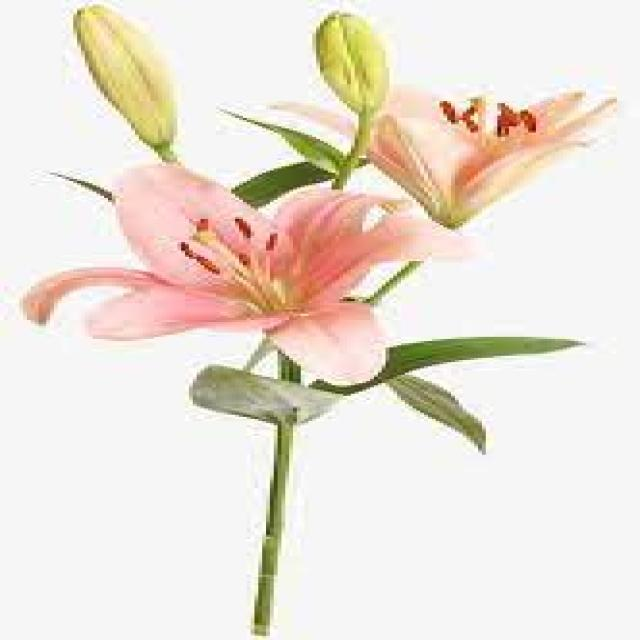lily: (42, 156, 454, 408)
